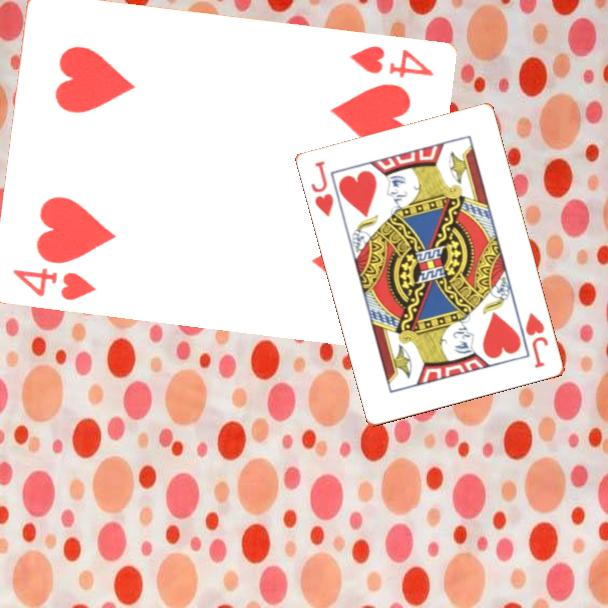h04: (8, 264, 99, 304), (345, 42, 436, 82)
h11: (522, 309, 552, 371), (308, 157, 337, 220)
